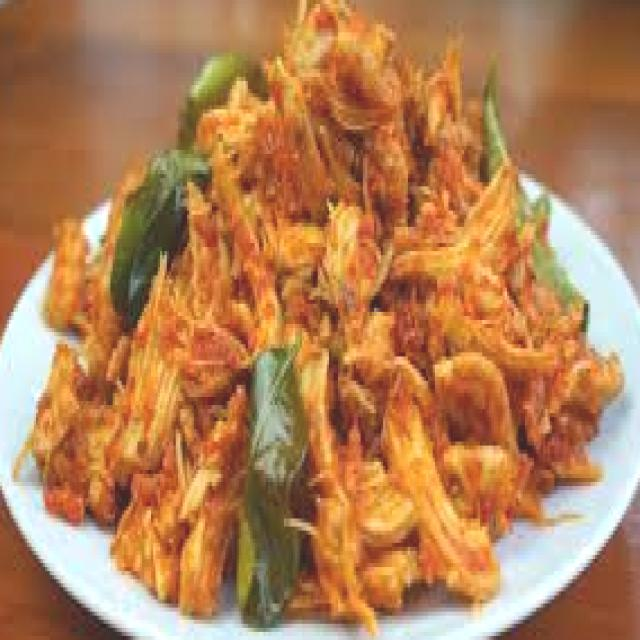ayam_suwir: (32, 0, 602, 595)
